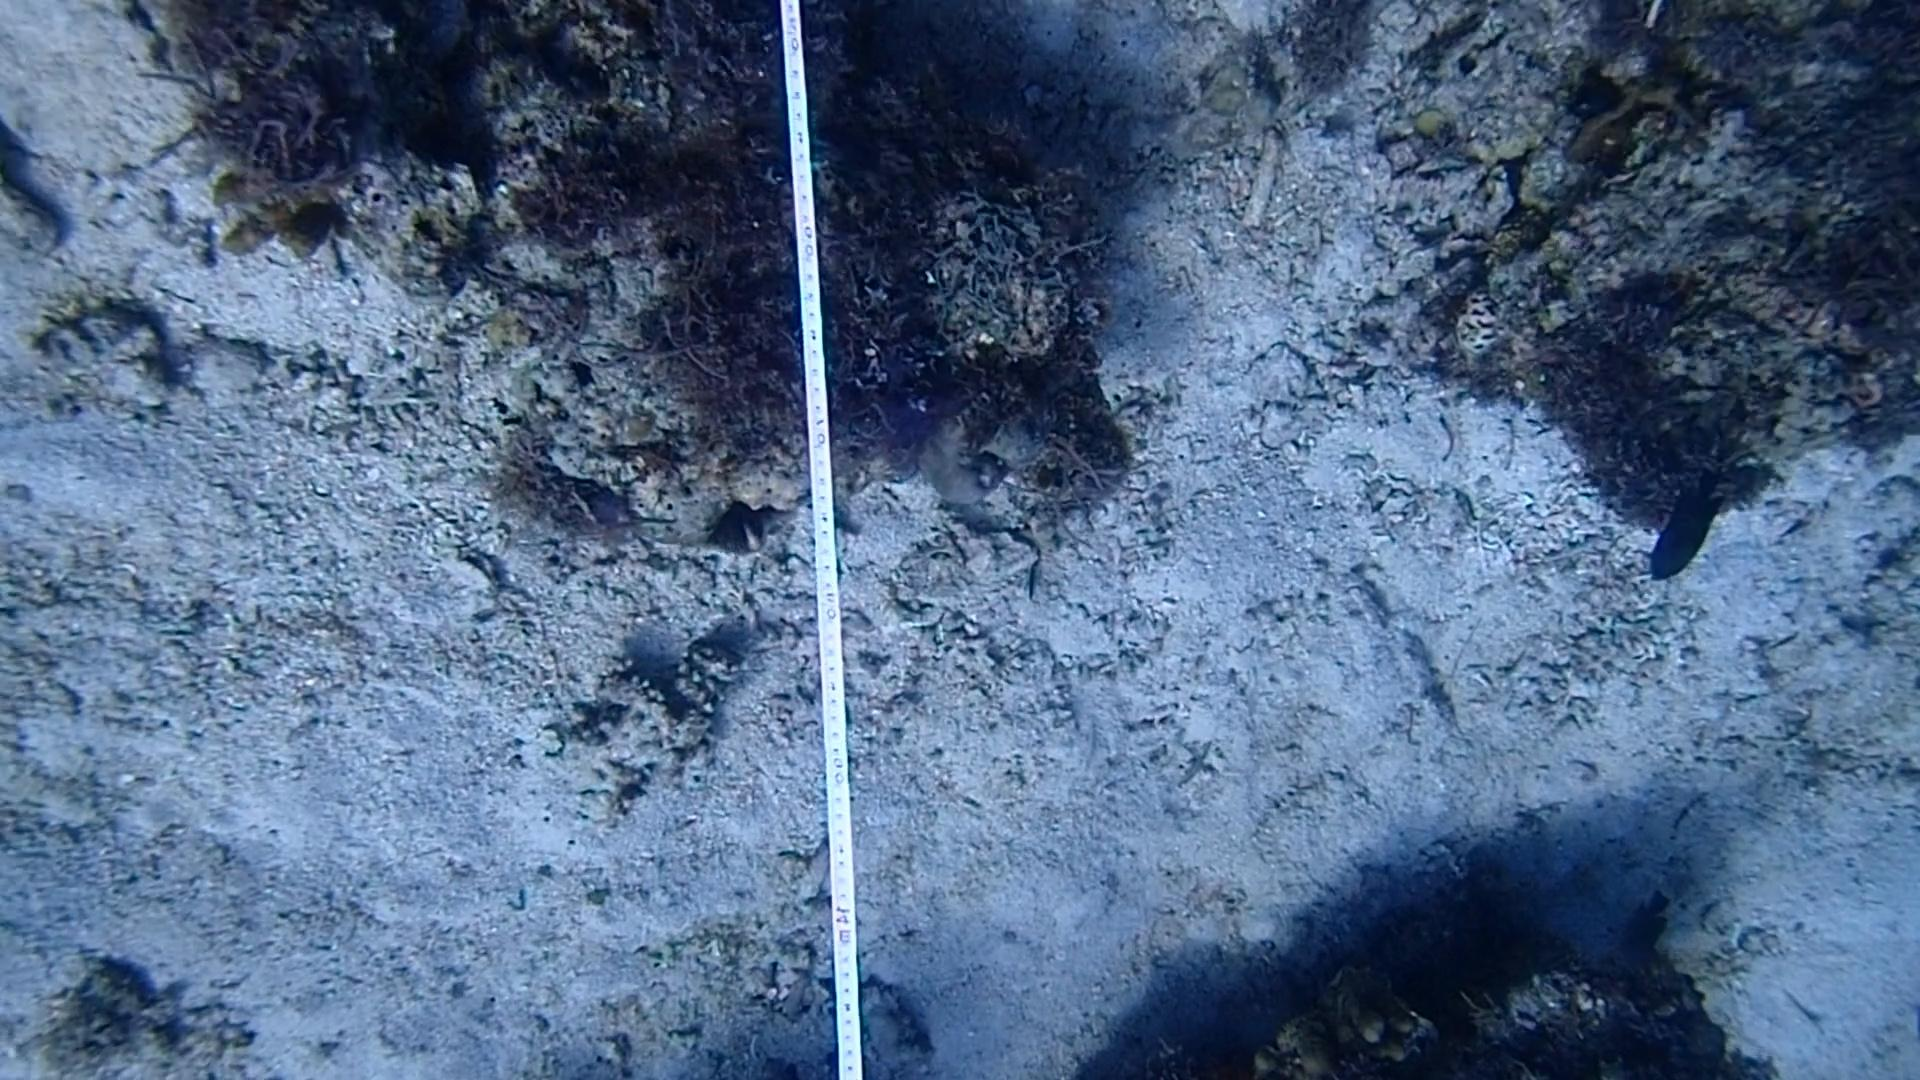Dark Fish: (1642, 464, 1729, 599), (1611, 884, 1672, 978)
